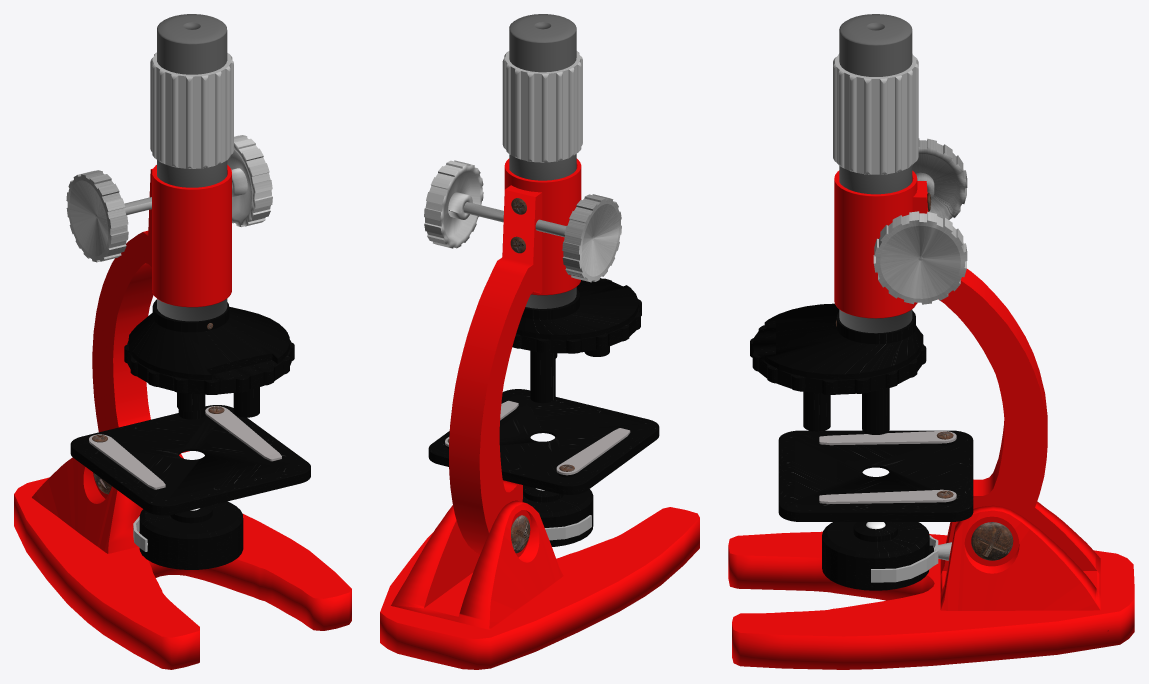
3 renders of one model, left to right at view 1: azimuth 30°, elevation 25°; view 2: azimuth 150°, elevation 25°; view 3: azimuth 270°, elevation 25°, orthographic. The views are drawn at different scales.
Parts seen in each view (by area): view 1: Object_7, Object_13, Object_8, Object_9, Object_4, Object_6, Object_14; view 2: Object_7, Object_13, Object_9, Object_8, Object_4, Object_14, Object_6, Object_12; view 3: Object_7, Object_13, Object_8, Object_9, Object_4, Object_6, Object_14, Object_12.
Boxes of the visible parts, x1,y1,x2,y2 form: Object_7: (14,165,351,669); Object_13: (70,299,310,569); Object_8: (133,52,233,551); Object_9: (66,135,272,262); Object_4: (157,14,227,321); Object_6: (89,406,281,489); Object_14: (70,416,310,515); Object_7: (380,158,699,669); Object_13: (428,278,659,546); Object_9: (424,160,621,282); Object_8: (502,51,591,540); Object_4: (509,14,576,308); Object_14: (428,428,659,494); Object_6: (445,400,630,475); Object_12: (511,515,530,553); Object_7: (728,170,1134,669); Object_13: (750,303,973,590); Object_8: (833,54,951,582); Object_9: (873,138,967,304); Object_4: (839,14,912,333); Object_6: (819,431,956,503); Object_14: (778,441,973,521); Object_12: (971,522,1013,560).
Size of the model in its own units: 1.02 by 2.68 by 1.66.
9 materials, 3 textured.
